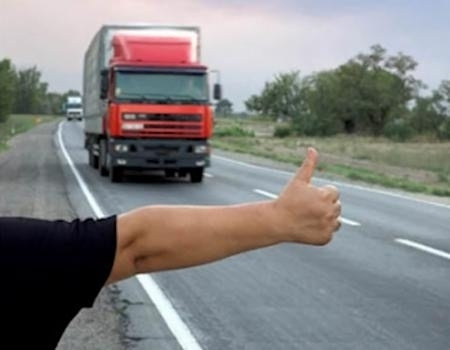hand: (281, 148, 341, 246)
